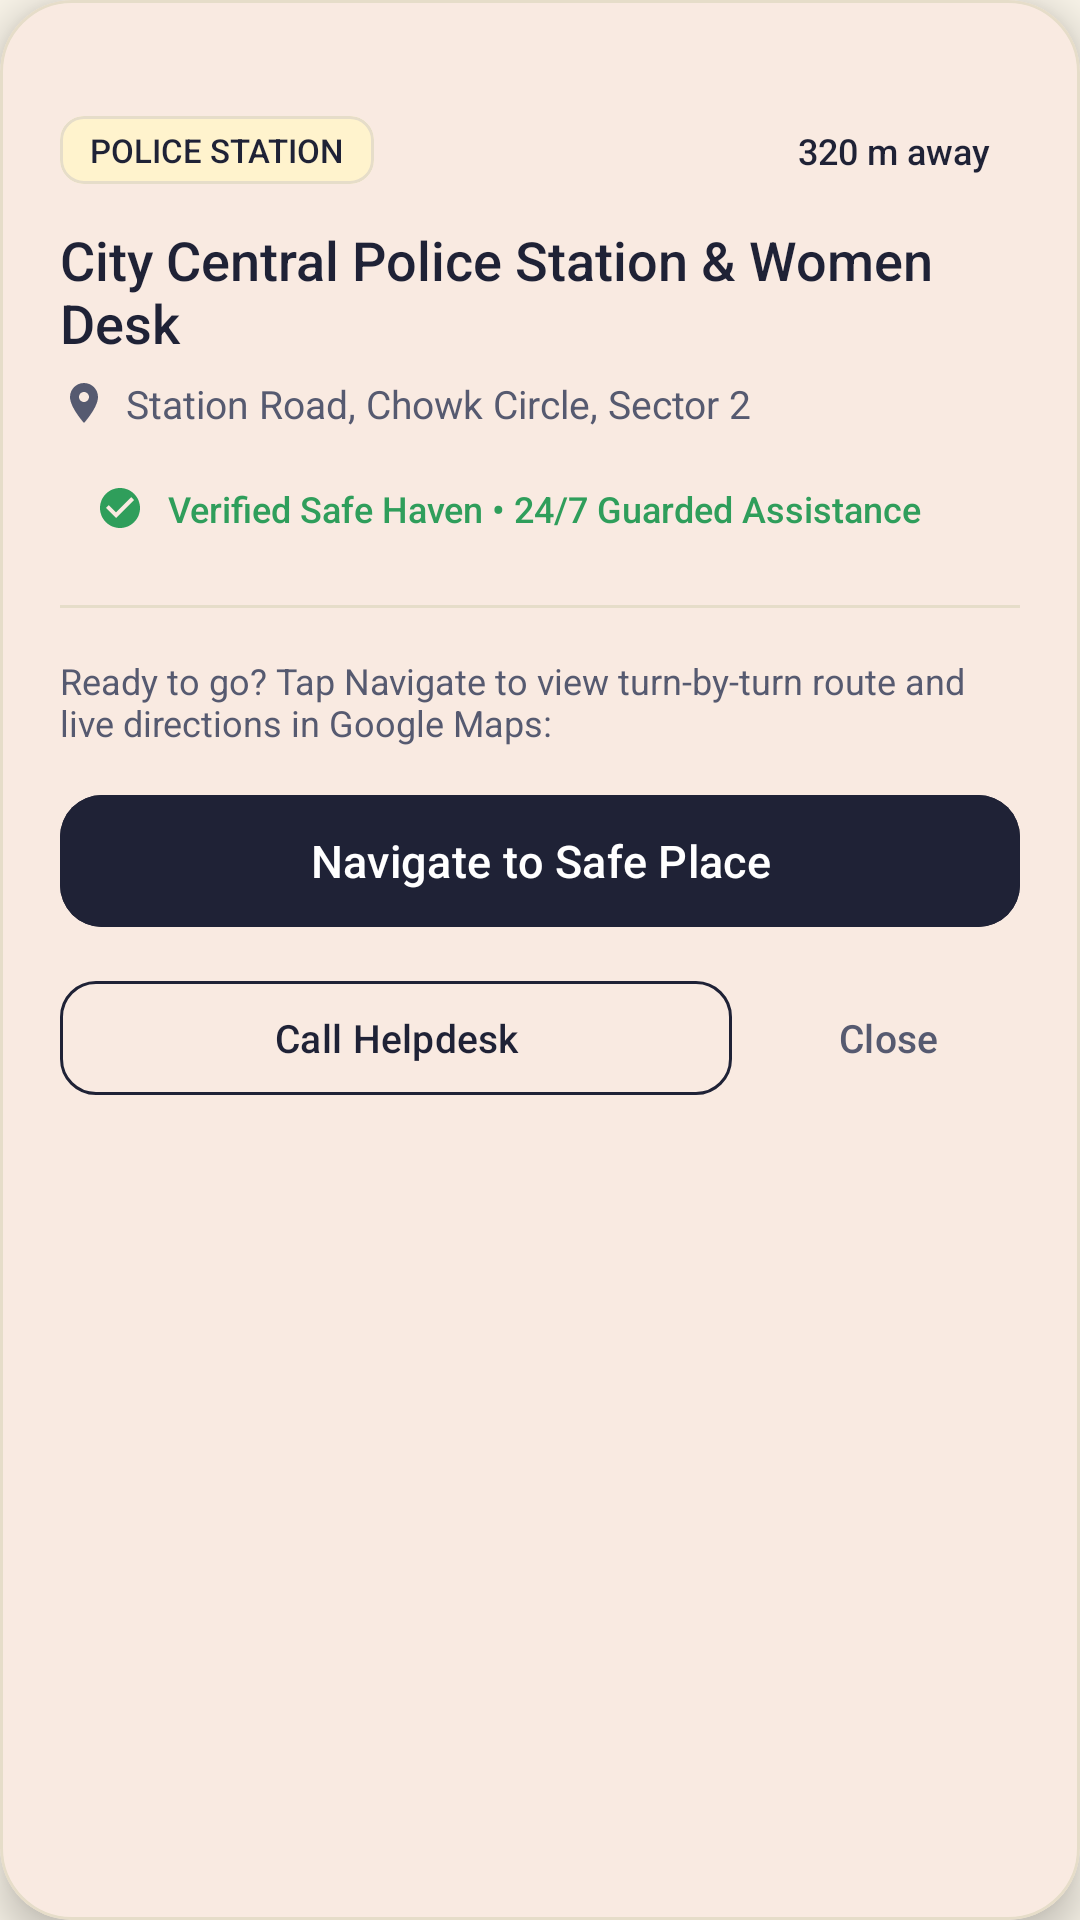

Where to tap for icons on this 1080px×1920px app screen, as [x,y]:
Pin: [84,403]
